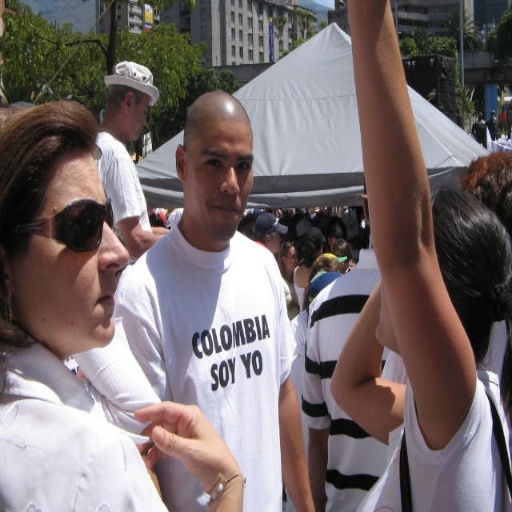hand: (124, 396, 240, 496), (150, 226, 168, 233)
